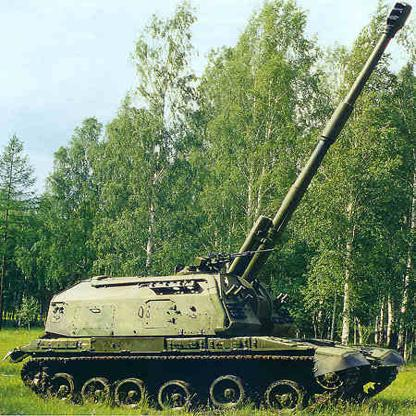Tank: (1, 215, 412, 412)
